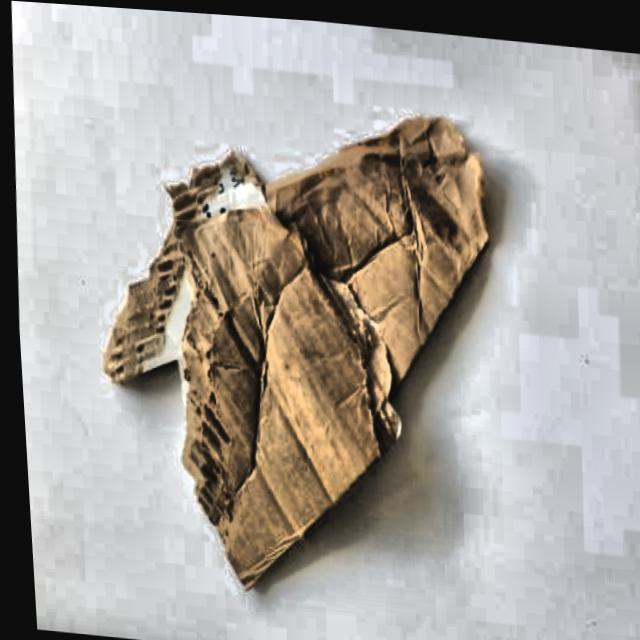Cardbox: (60, 52, 538, 635)
